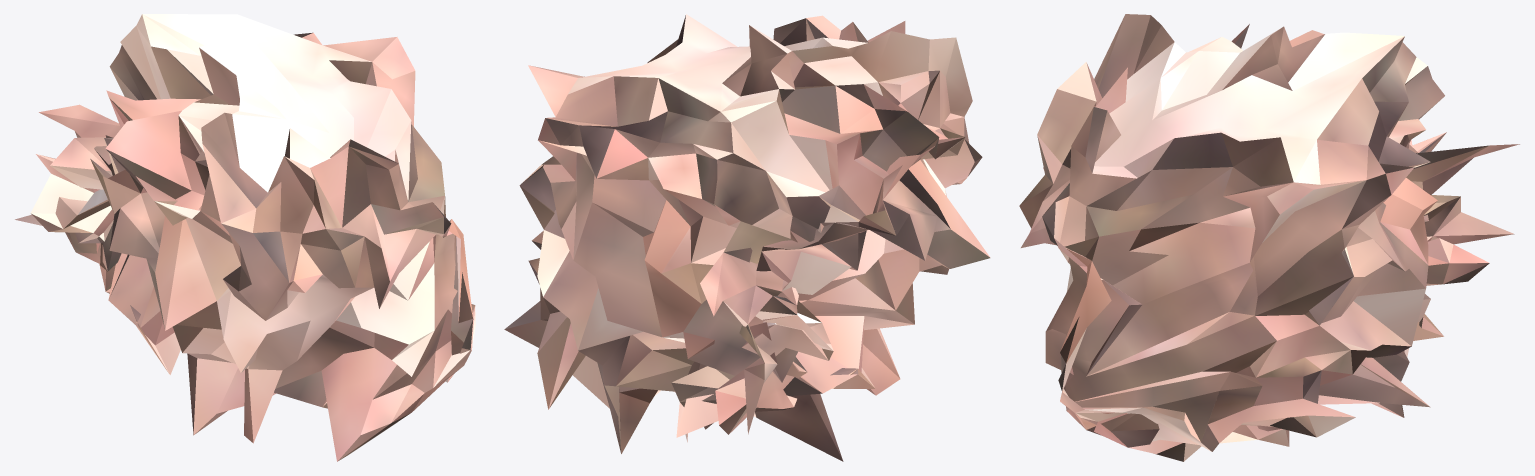
File: TitaniumOre.glb
The picture shows the model from 3 angles, left to right: view 1: azimuth 30°, elevation 25°; view 2: azimuth 150°, elevation 25°; view 3: azimuth 270°, elevation 25°; orthographic projection. The views are drawn at different scales.
Parts seen in each view (by area): view 1: tiantium; view 2: tiantium; view 3: tiantium.
Part boxes in pixels (x1=…): tiantium: x1=15, y1=14, x2=475, y2=461; tiantium: x1=504, y1=14, x2=990, y2=461; tiantium: x1=1019, y1=14, x2=1519, y2=461.
Bounding box in the file's own units: 0.9778 × 1.02 × 1.16.
Materials: 1 (1 with a texture image).
